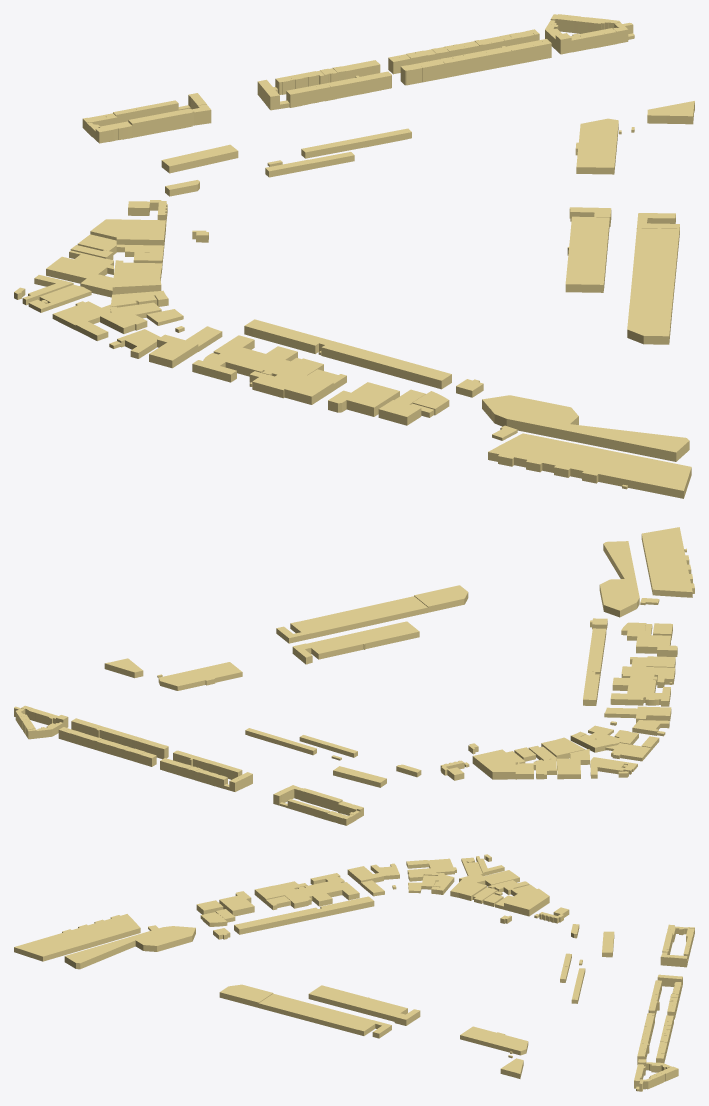
File: yellow_buildings_lod12-ff72150e138e.glb
The picture shows the model from 3 angles, top to bottom: view 1: azimuth 30°, elevation 25°; view 2: azimuth 150°, elevation 25°; view 3: azimuth 270°, elevation 25°; orthographic projection. The views are drawn at different scales.
Visible parts, largest first — view 1: BAG_0606100000016773, BAG_0599100000269666, BAG_0606100000006659, BAG_0599100000666060, BAG_0599100000666058, BAG_0599100000382393, BAG_0599100000765600, BAG_0599100010054678, BAG_0599100000700501, BAG_0599100000700899, BAG_0606100000009625, BAG_0599100100011266 (+11 smaller); view 2: BAG_0606100000016773, BAG_0599100000666060, BAG_0606100000006659, BAG_0599100000269666, BAG_0599100000666058, BAG_0599100000765600, BAG_0599100000700501, BAG_0599100010054678, BAG_0606100000009625, BAG_0599100000700899, BAG_0599100000382393, BAG_0599100000649439 (+7 smaller); view 3: BAG_0606100000016773, BAG_0599100000269666, BAG_0599100000666060, BAG_0606100000006659, BAG_0599100000666058, BAG_0599100000765600, BAG_0599100000382393, BAG_0599100000700501, BAG_0599100010054678, BAG_0599100100011266, BAG_0606100000009625, BAG_0599100000700899 (+3 smaller).
Boxes of the visible parts, x1,y1,x2,y2 form: BAG_0606100000016773: (488, 433, 691, 498); BAG_0599100000269666: (482, 395, 689, 461); BAG_0606100000006659: (192, 335, 323, 398); BAG_0599100000666060: (629, 228, 679, 312); BAG_0599100000666058: (565, 216, 609, 292); BAG_0599100000382393: (321, 341, 451, 389); BAG_0599100000765600: (575, 118, 618, 174); BAG_0599100010054678: (627, 305, 671, 344); BAG_0599100000700501: (90, 219, 165, 248); BAG_0599100000700899: (46, 256, 113, 297); BAG_0606100000009625: (328, 382, 399, 416); BAG_0599100100011266: (244, 319, 331, 353); BAG_0606100000016773: (641, 527, 694, 597); BAG_0599100000666060: (298, 596, 428, 638); BAG_0606100000006659: (610, 666, 675, 706); BAG_0599100000269666: (599, 541, 639, 617); BAG_0599100000666058: (306, 621, 419, 659); BAG_0599100000765600: (158, 662, 242, 690); BAG_0599100000700501: (472, 749, 517, 779); BAG_0599100010054678: (414, 585, 468, 612); BAG_0606100000009625: (636, 635, 677, 656); BAG_0599100000700899: (557, 749, 589, 779); BAG_0599100000382393: (587, 628, 606, 677); BAG_0599100000649439: (333, 766, 386, 787); BAG_0606100000016773: (14, 914, 140, 961); BAG_0599100000269666: (64, 926, 195, 969); BAG_0599100000666060: (258, 993, 371, 1034); BAG_0606100000006659: (274, 873, 359, 908); BAG_0599100000666058: (308, 985, 407, 1021); BAG_0599100000765600: (460, 1026, 528, 1055); BAG_0599100000382393: (234, 907, 320, 934); BAG_0599100000700501: (504, 888, 549, 916); BAG_0599100010054678: (219, 984, 273, 1007); BAG_0599100100011266: (318, 896, 374, 917); BAG_0606100000009625: (219, 891, 254, 916); BAG_0599100000700899: (459, 870, 519, 886).
Bounding box in the file's own units: 906 × 17.95 × 1135.
